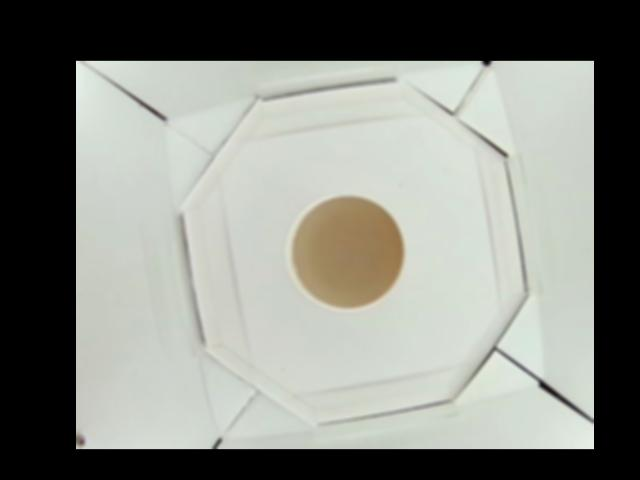Cup: (288, 194, 405, 309)
